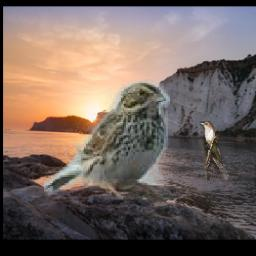Cuckoo: (200, 122, 228, 181)
Sparrow: (45, 79, 171, 200)
